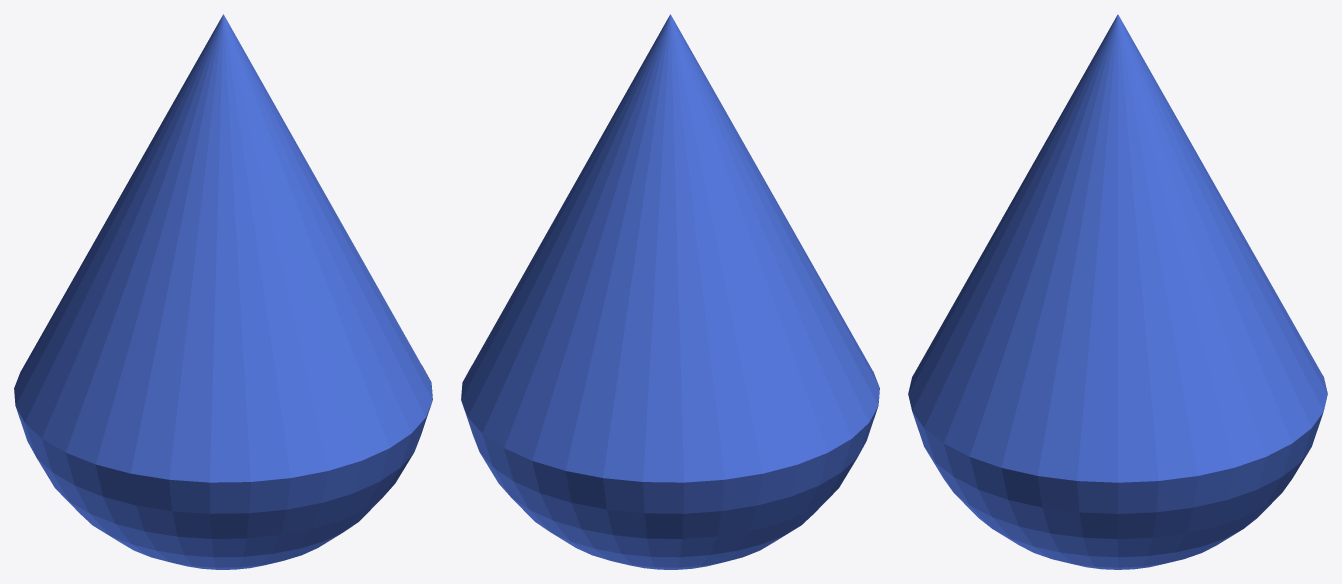
File: Raindrop.fbx
The picture shows the model from 3 angles, left to right: view 1: azimuth 30°, elevation 25°; view 2: azimuth 150°, elevation 25°; view 3: azimuth 270°, elevation 25°; orthographic projection.
Parts seen in each view (by area): view 1: Cone; view 2: Cone; view 3: Cone.
Boxes of the visible parts, x1,y1,x2,y2 form: Cone: [14, 14, 432, 569]; Cone: [461, 14, 879, 569]; Cone: [908, 14, 1327, 569].
Bounding box in the file's own units: 196 × 276 × 196.
